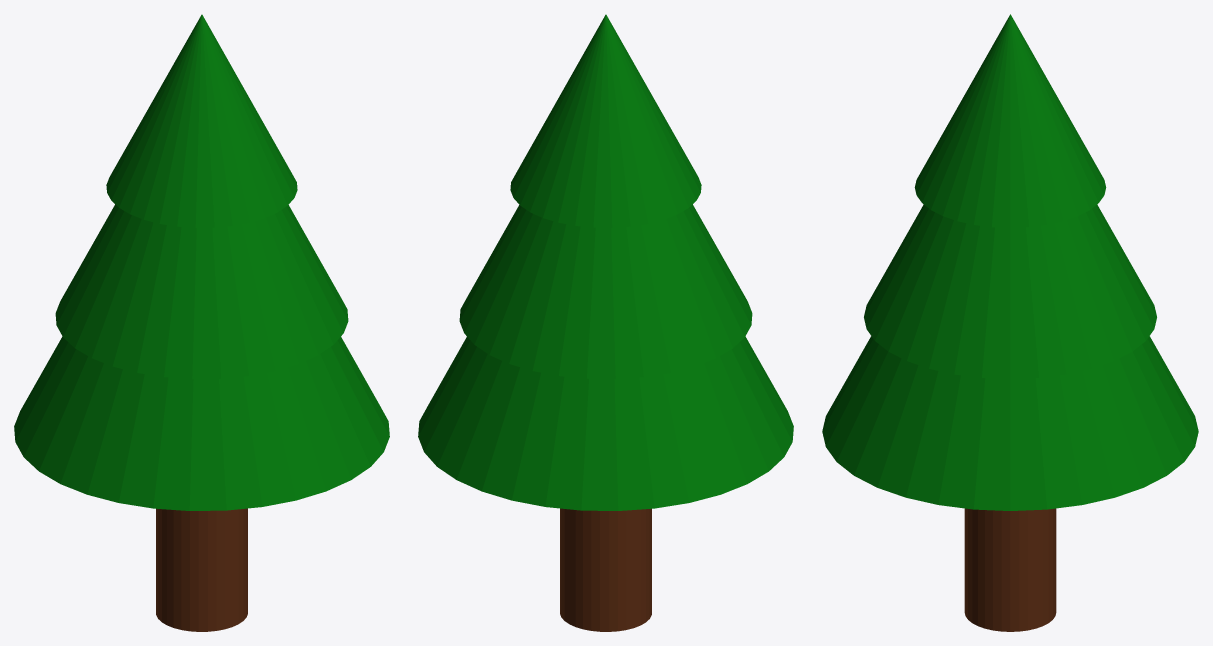
File: tree.glb
The picture shows the model from 3 angles, left to right: view 1: azimuth 30°, elevation 25°; view 2: azimuth 150°, elevation 25°; view 3: azimuth 270°, elevation 25°; orthographic projection.
Visible parts, largest first — view 1: Cone.002, Cone.001, Cone, Cylinder; view 2: Cone.002, Cone.001, Cone, Cylinder; view 3: Cone.002, Cone.001, Cone, Cylinder.
Boxes of the visible parts, left/top/right/bottom form: Cone.002: left=14, top=336, right=389, bottom=510; Cone.001: left=55, top=204, right=348, bottom=379; Cone: left=106, top=14, right=297, bottom=227; Cylinder: left=156, top=508, right=247, bottom=631; Cone.002: left=418, top=336, right=793, bottom=510; Cone.001: left=459, top=204, right=752, bottom=379; Cone: left=510, top=14, right=701, bottom=227; Cylinder: left=560, top=508, right=651, bottom=631; Cone.002: left=822, top=336, right=1198, bottom=510; Cone.001: left=864, top=204, right=1156, bottom=379; Cone: left=914, top=14, right=1106, bottom=227; Cylinder: left=964, top=508, right=1056, bottom=631.
Size of the model in its own units: 3.93 by 6.9 by 3.93.
